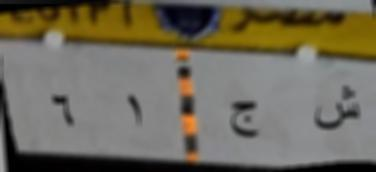1: (124, 85, 145, 133)
6: (43, 86, 80, 139)
jeem: (227, 94, 260, 145)
sheen: (308, 86, 366, 134)
